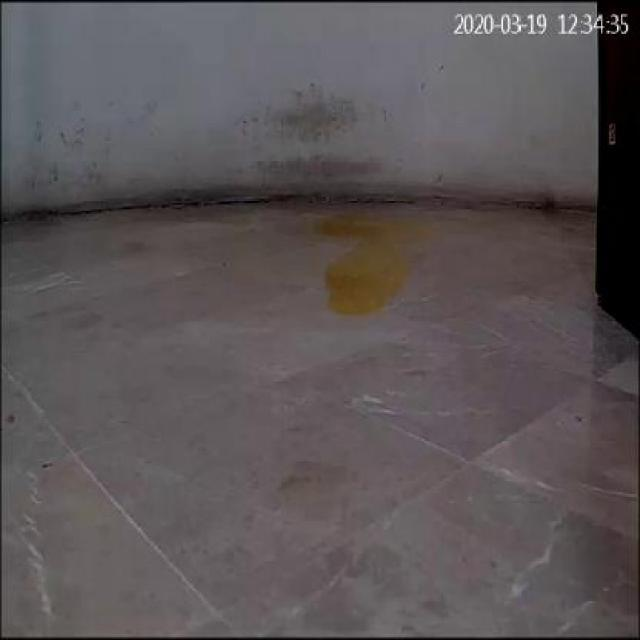spill: (316, 208, 422, 314)
